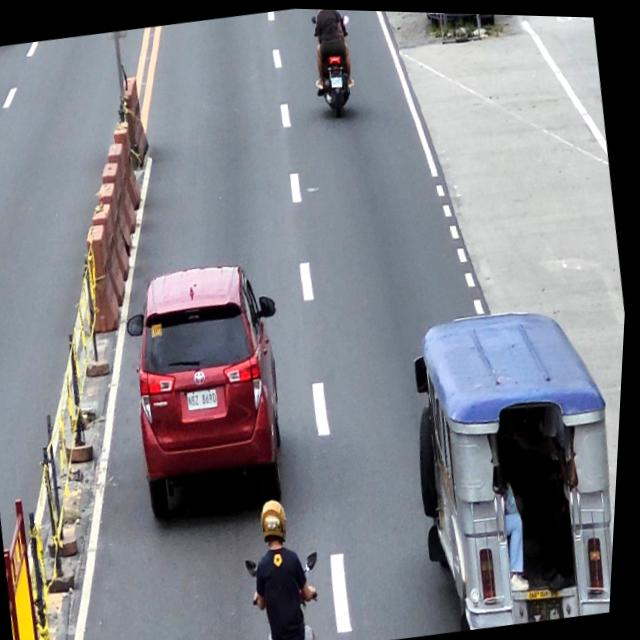Car: (115, 255, 314, 529)
Jeep: (395, 291, 629, 635)
License-Plate: (530, 590, 571, 620), (190, 386, 224, 412), (330, 73, 345, 87)
Motorcycle: (307, 7, 363, 118)
